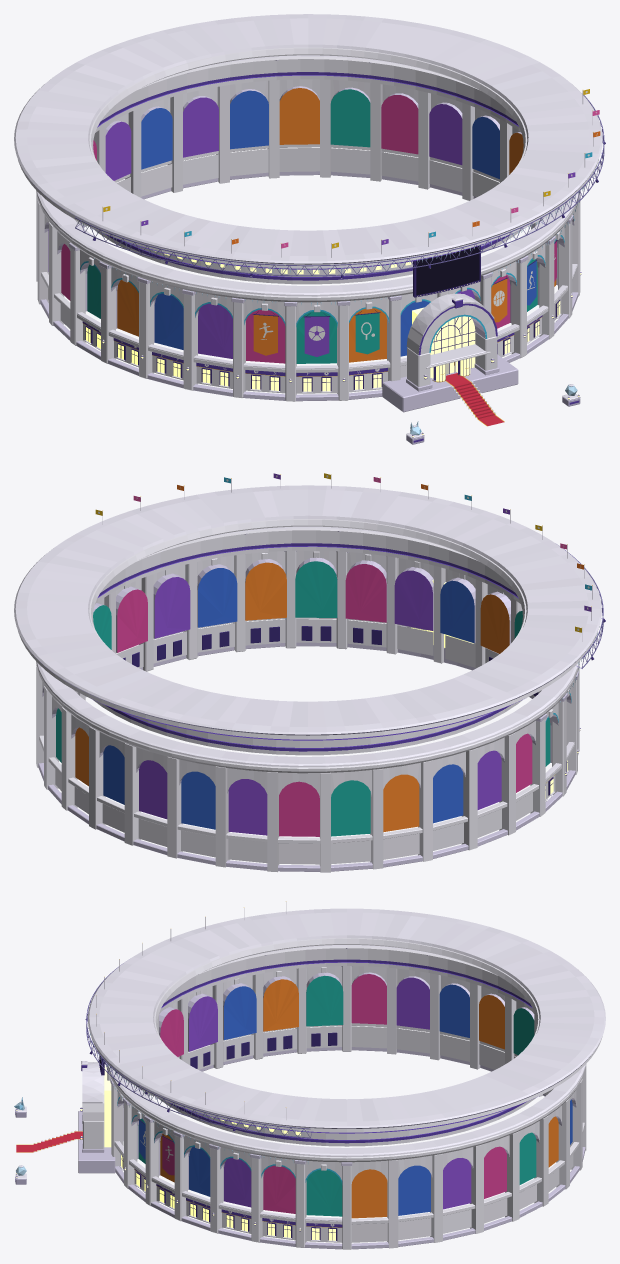
Rendered from ws-stadium.glb.
The picture shows the model from 3 angles, top to bottom: view 1: azimuth 30°, elevation 25°; view 2: azimuth 150°, elevation 25°; view 3: azimuth 270°, elevation 25°; orthographic projection. The views are drawn at different scales.
Parts seen in each view (by area): view 1: Stadium, Screen; view 2: Stadium; view 3: Stadium.
Part boxes in pixels (x1,y1,x2,y2): Stadium: [14, 14, 605, 444]; Screen: [416, 246, 479, 295]; Stadium: [14, 474, 605, 872]; Stadium: [14, 901, 605, 1249].
Bounding box in the file's own units: 83.7 × 25.76 × 95.62.
